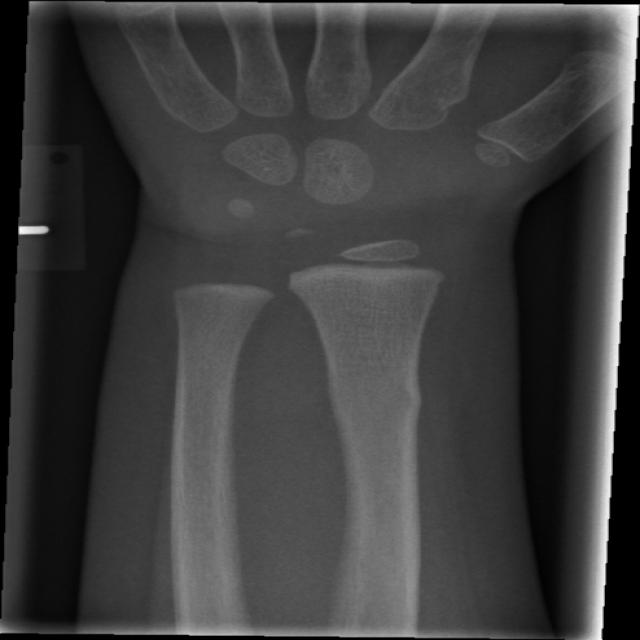radius fracture: (296, 353, 457, 462)
